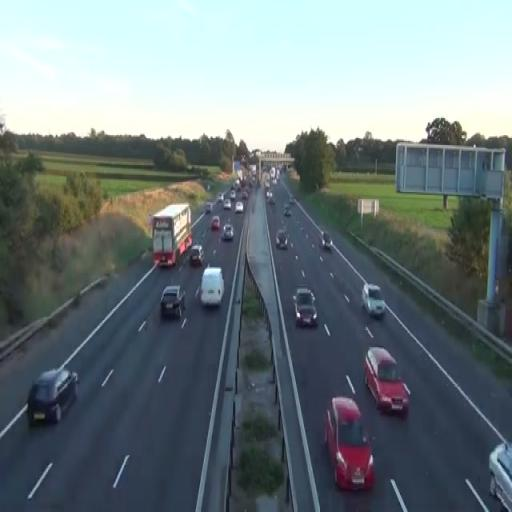Bus: (150, 204, 194, 268)
Car: (323, 394, 375, 492), (364, 346, 410, 415), (27, 365, 79, 426), (488, 439, 512, 511), (292, 288, 318, 328), (201, 267, 225, 308), (160, 284, 186, 320), (361, 283, 385, 320), (190, 244, 204, 268), (276, 228, 288, 250), (222, 224, 234, 241)
Truck: (200, 267, 224, 308)
